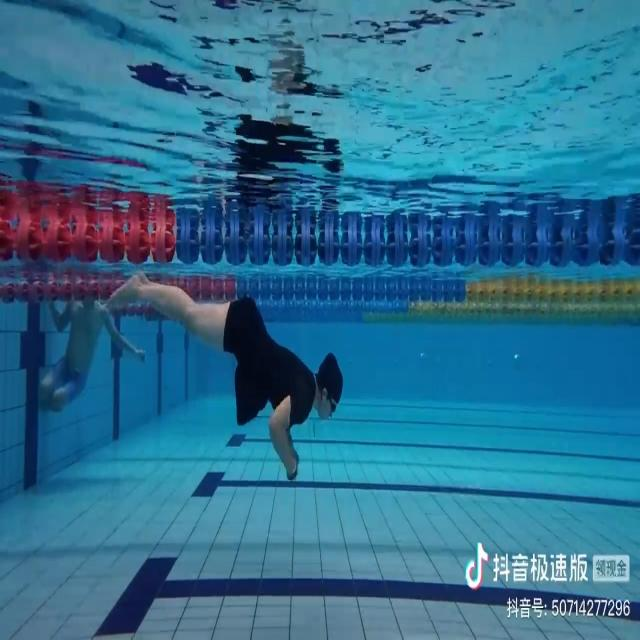Swimming: (108, 269, 344, 487), (40, 302, 144, 414)
